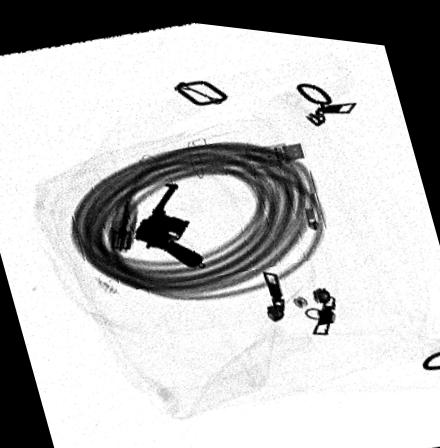Gun: (133, 178, 200, 262)
